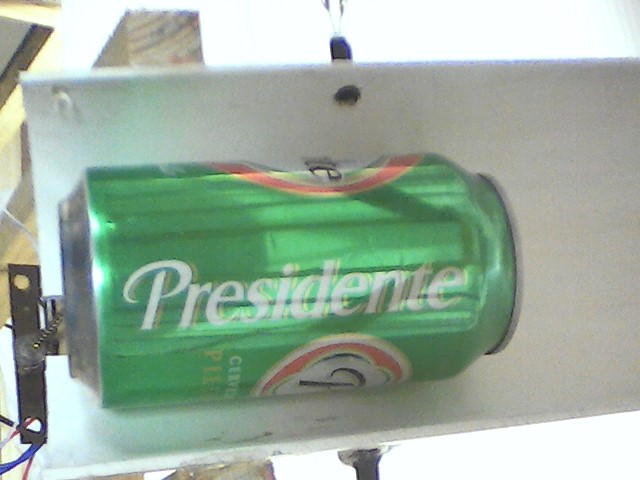lata: (54, 153, 529, 415)
